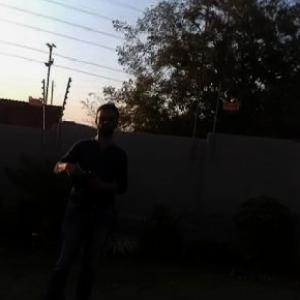follow: (42, 99, 134, 299)
